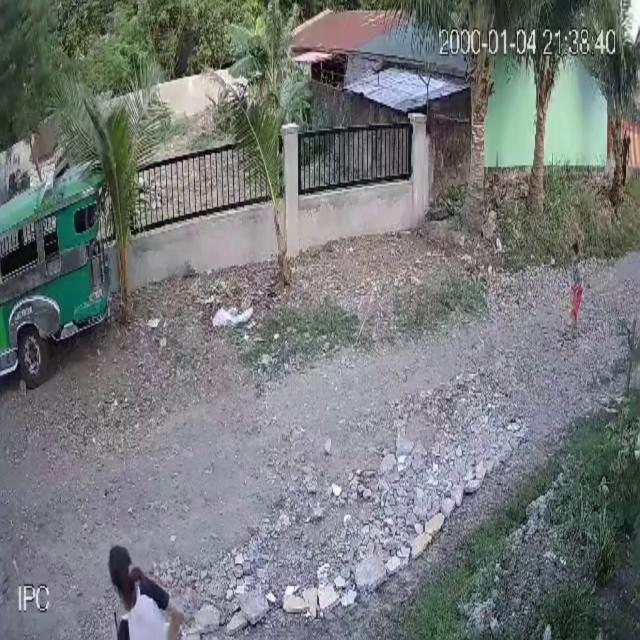walking: (106, 540, 192, 640), (564, 236, 586, 345), (620, 126, 630, 190)
